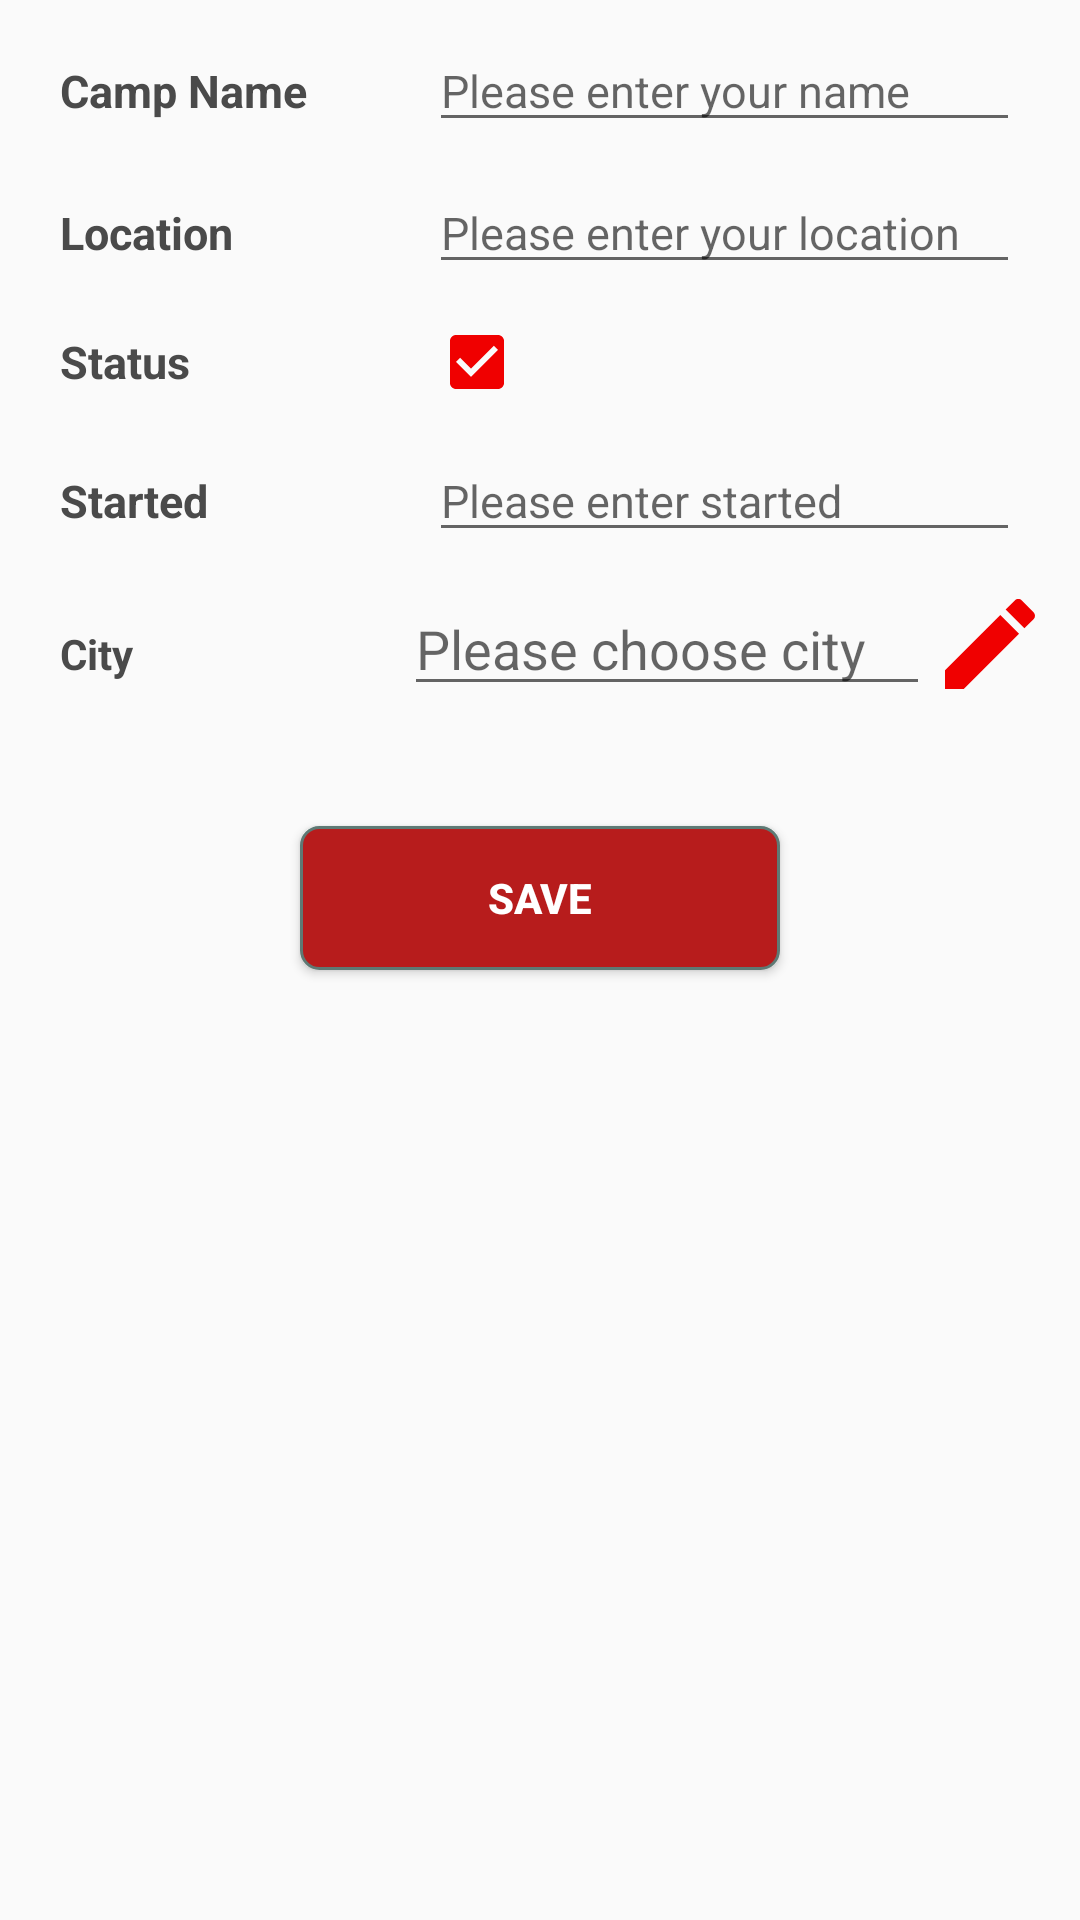

Named icons in this screenshot (1080 x 1920) and their bounding boxes, (x1, y1, x2, y2):
edit: (945, 599, 1035, 689)
